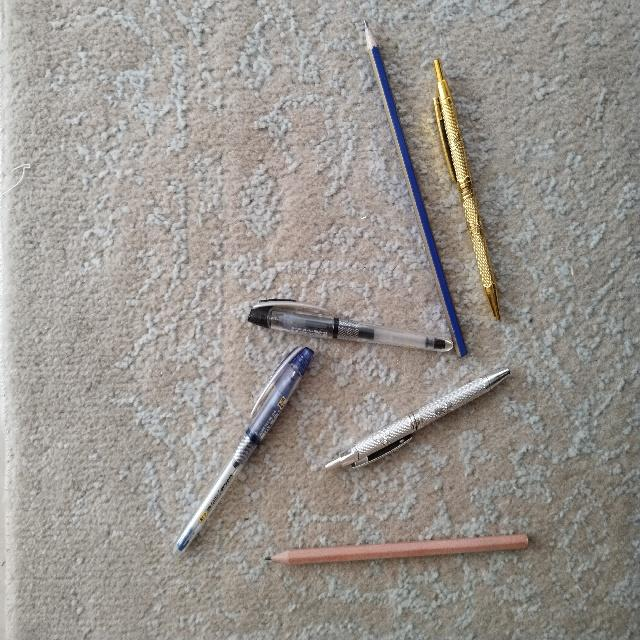pen: (175, 347, 313, 551), (248, 300, 452, 350)
pencil: (364, 20, 466, 356), (268, 534, 527, 563)
signature pen: (325, 369, 509, 467), (434, 59, 499, 319)
